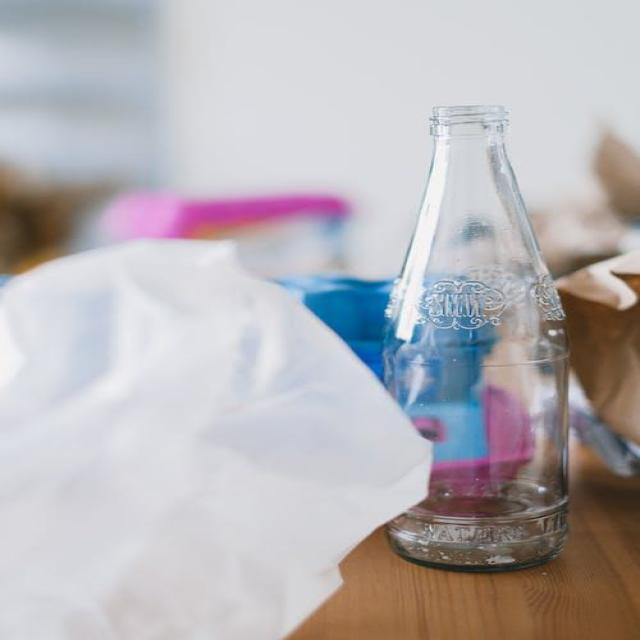glass: (372, 86, 592, 574)
plastic: (8, 242, 352, 636)
